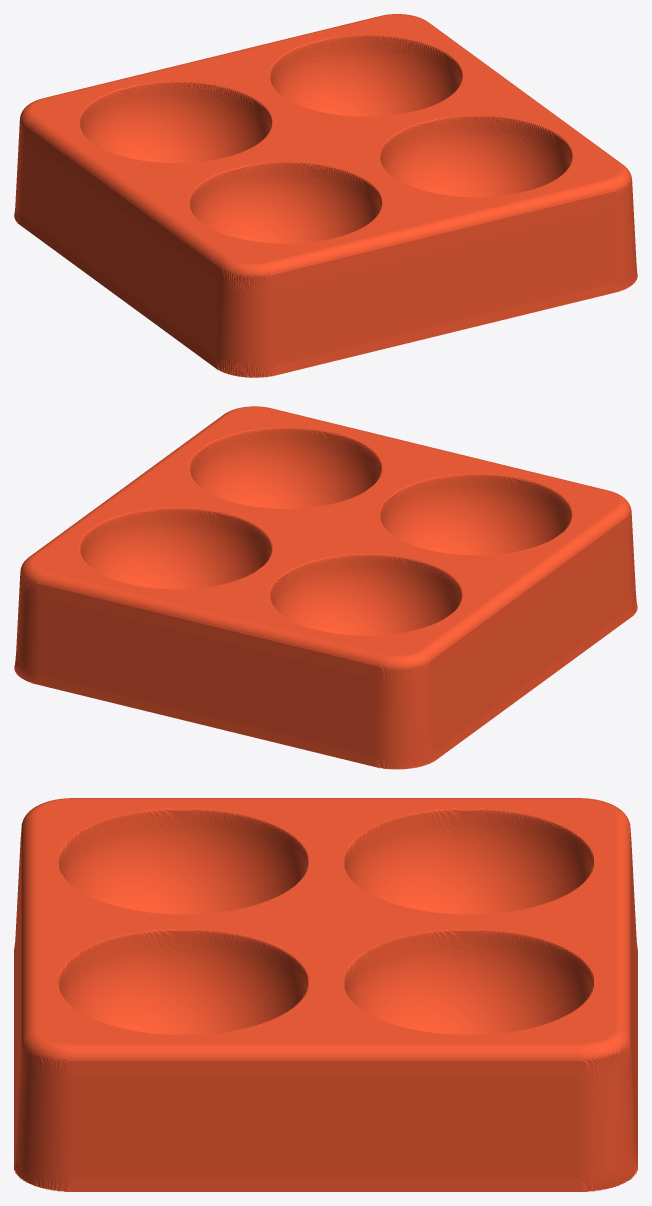
File: mold.glb
The picture shows the model from 3 angles, top to bottom: view 1: azimuth 30°, elevation 25°; view 2: azimuth 150°, elevation 25°; view 3: azimuth 270°, elevation 25°; orthographic projection. The views are drawn at different scales.
Parts seen in each view (by area): view 1: geometry_0; view 2: geometry_0; view 3: geometry_0.
Part boxes in pixels (x1,y1,x2,y2): geometry_0: (14, 14, 637, 377); geometry_0: (14, 406, 637, 769); geometry_0: (14, 798, 637, 1191).
Bounding box in the file's own units: 0.0962 × 0.0235 × 0.0962.
